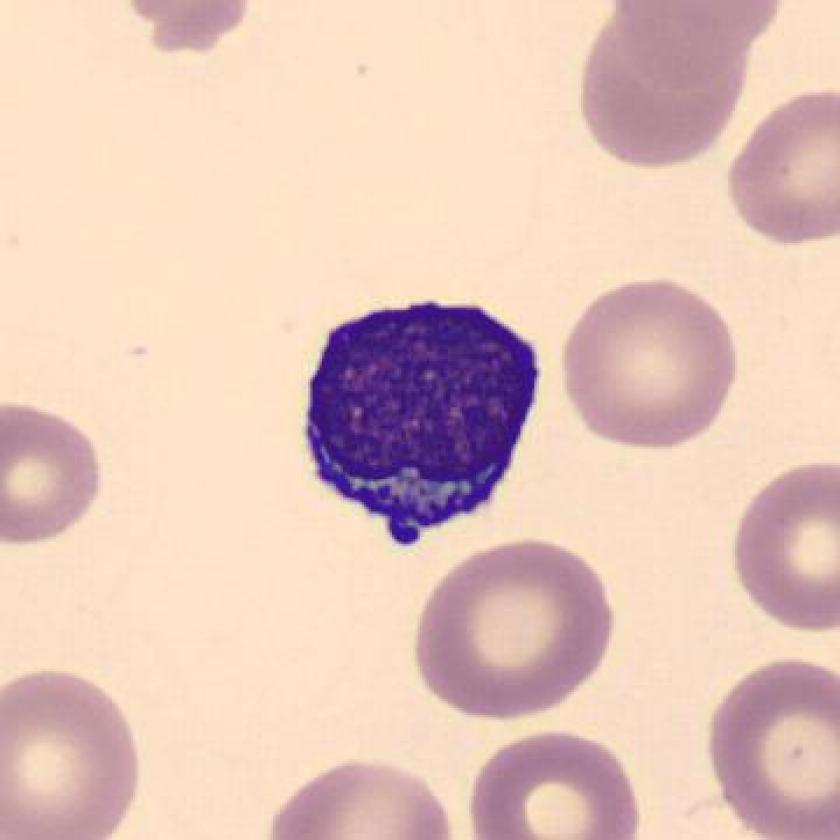lymphocyte: (279, 283, 559, 552)
